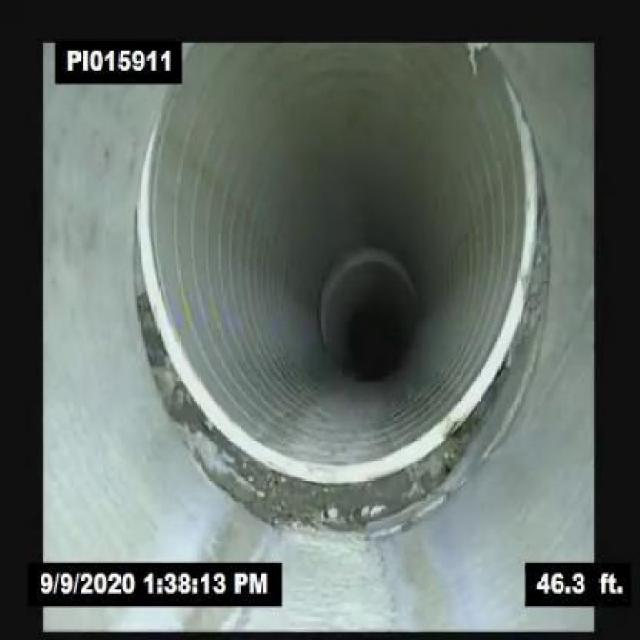Hole: (108, 398, 564, 544)
Joint offset: (446, 59, 548, 402), (125, 92, 212, 397)
